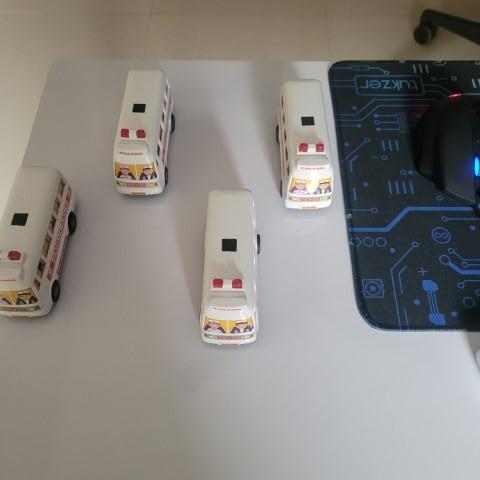ambulance: (194, 183, 264, 349), (271, 75, 340, 216), (109, 65, 174, 206)
